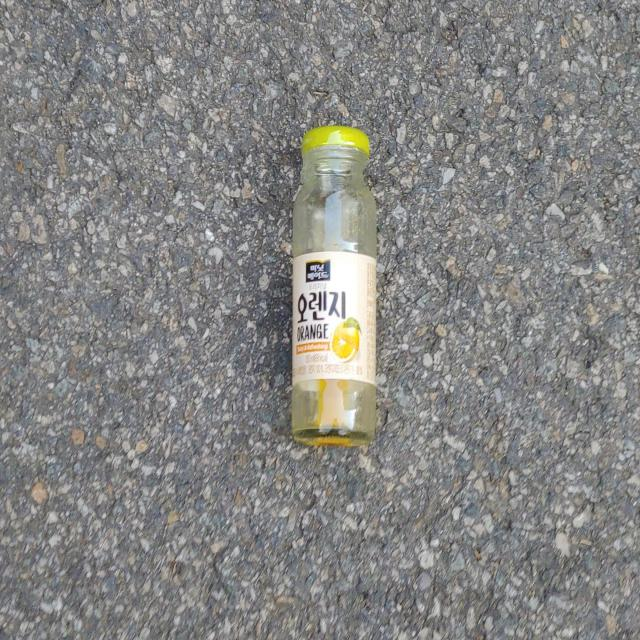glass: (291, 126, 377, 446)
